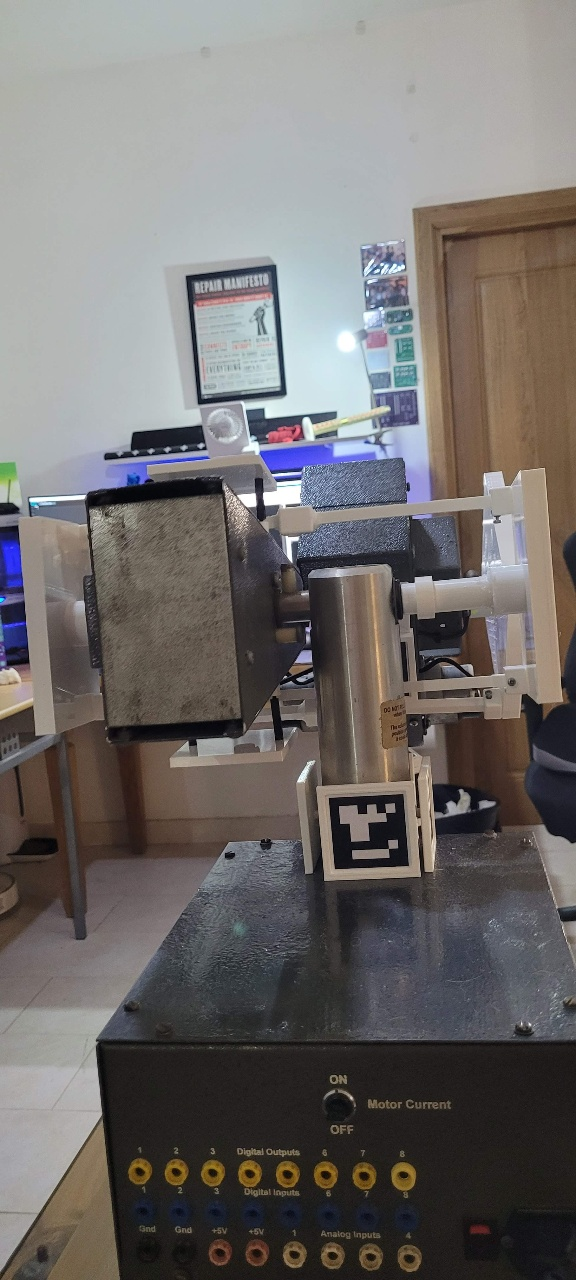Robot: (14, 451, 568, 882)
